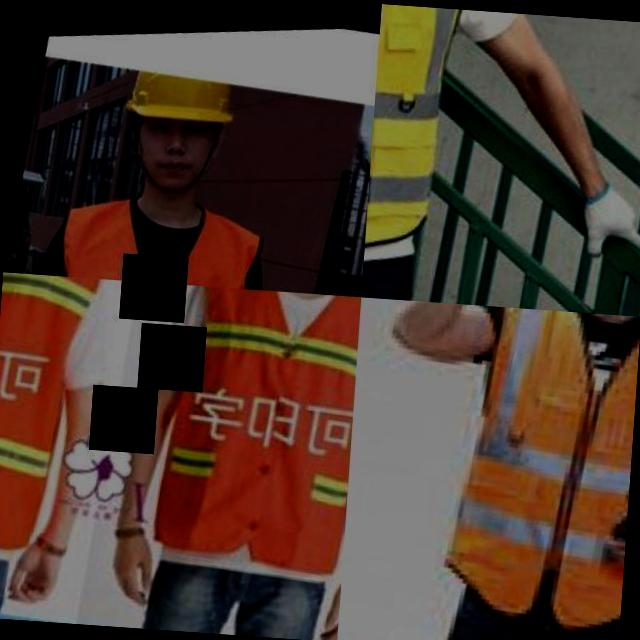vest: (122, 282, 361, 584), (429, 303, 640, 618), (8, 162, 266, 290), (363, 3, 486, 270), (0, 271, 108, 565)
